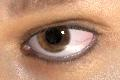eye: (38, 26, 71, 52)
